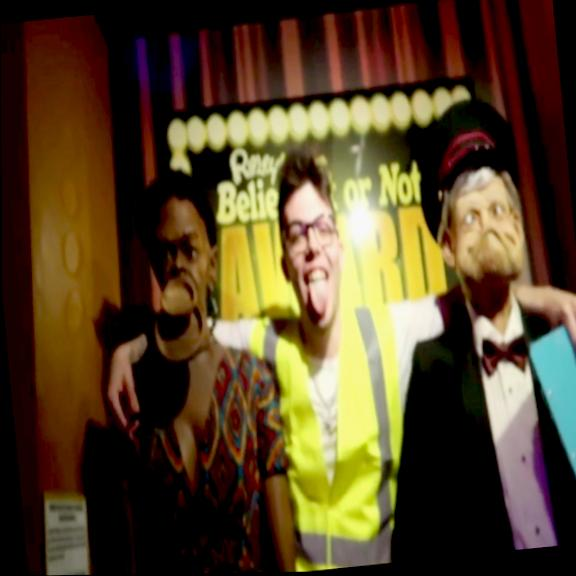safety_vest: (246, 295, 415, 572)
